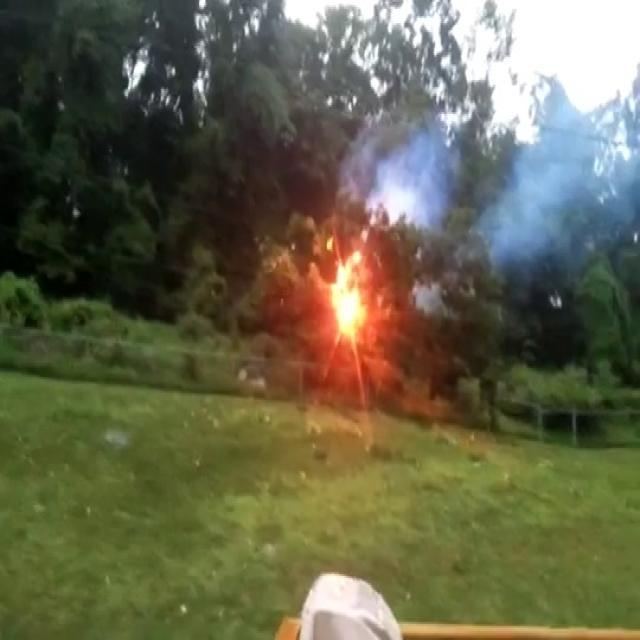Fire: (320, 240, 376, 343)
Smoke: (480, 90, 640, 274), (363, 109, 461, 222)
